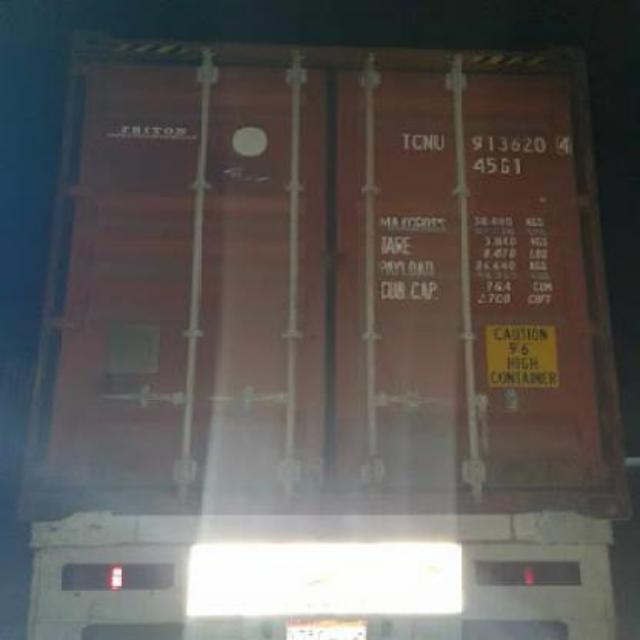0: (536, 136, 546, 156)
1: (488, 137, 496, 153)
2: (522, 136, 536, 154)
3: (500, 135, 510, 155)
4: (558, 138, 572, 154)
6: (510, 134, 522, 154)
9: (472, 135, 482, 151)
C: (412, 133, 424, 151)
N: (422, 133, 434, 151)
T: (400, 132, 412, 150)
U: (432, 132, 446, 152)
